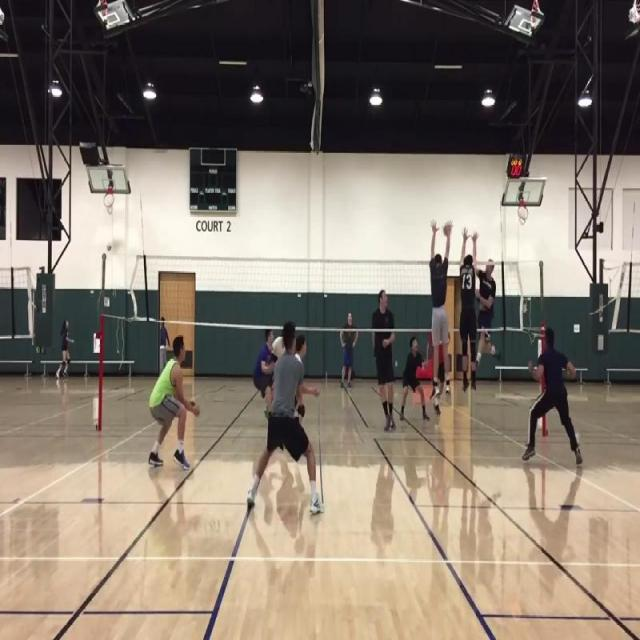volleyball: (442, 220, 452, 237)
